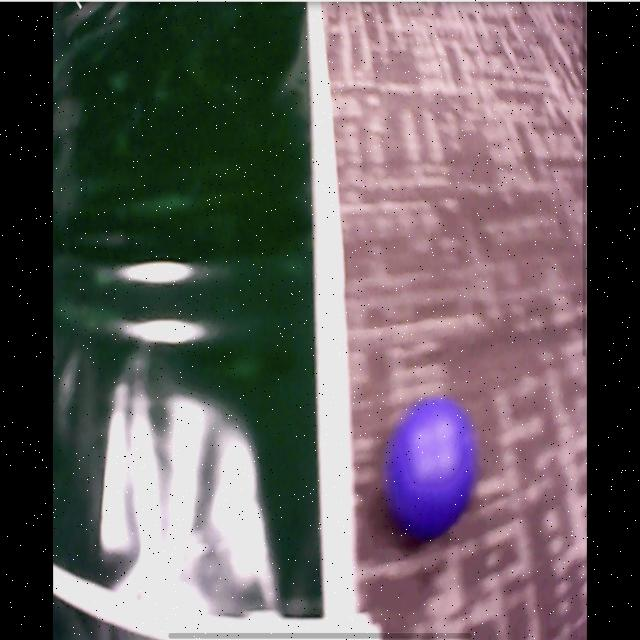ball: (390, 402, 474, 539)
